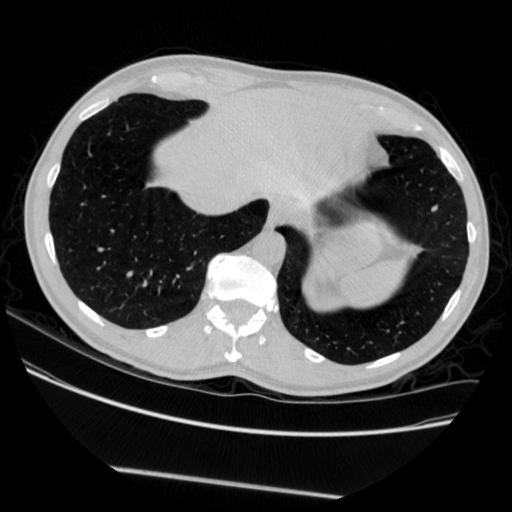nodule: (428, 202, 441, 215)
